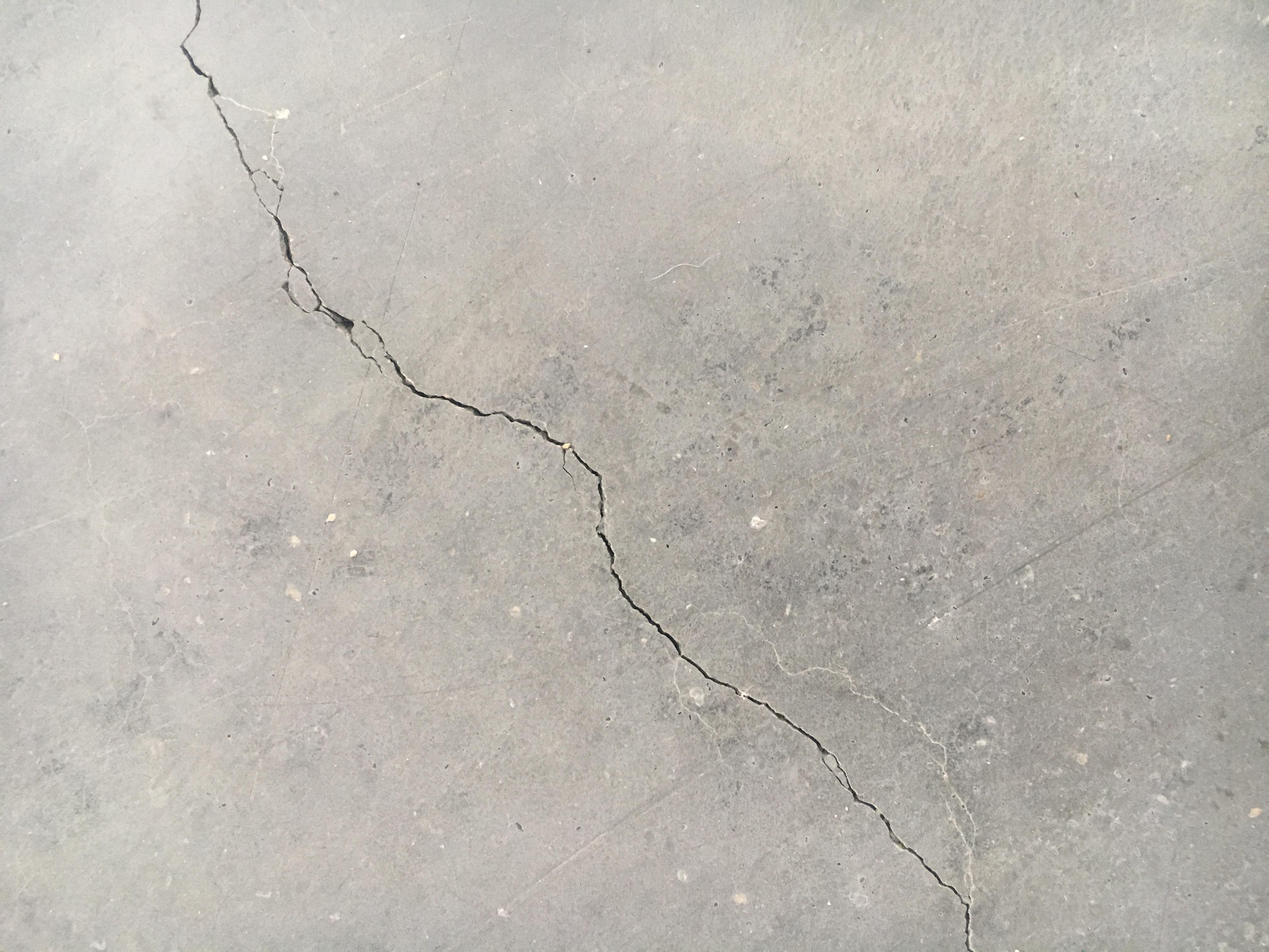Diagonal Crack: (177, 2, 983, 947)
